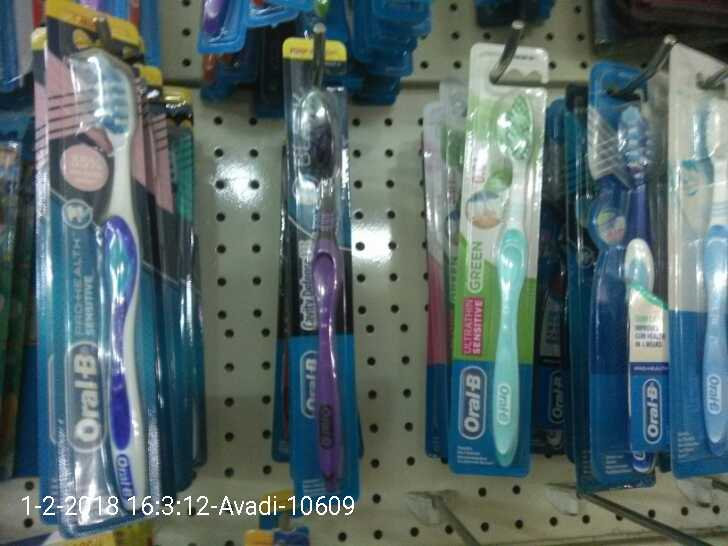oralb: (66, 57, 169, 511), (281, 89, 358, 482), (461, 93, 531, 468), (603, 104, 676, 462)
